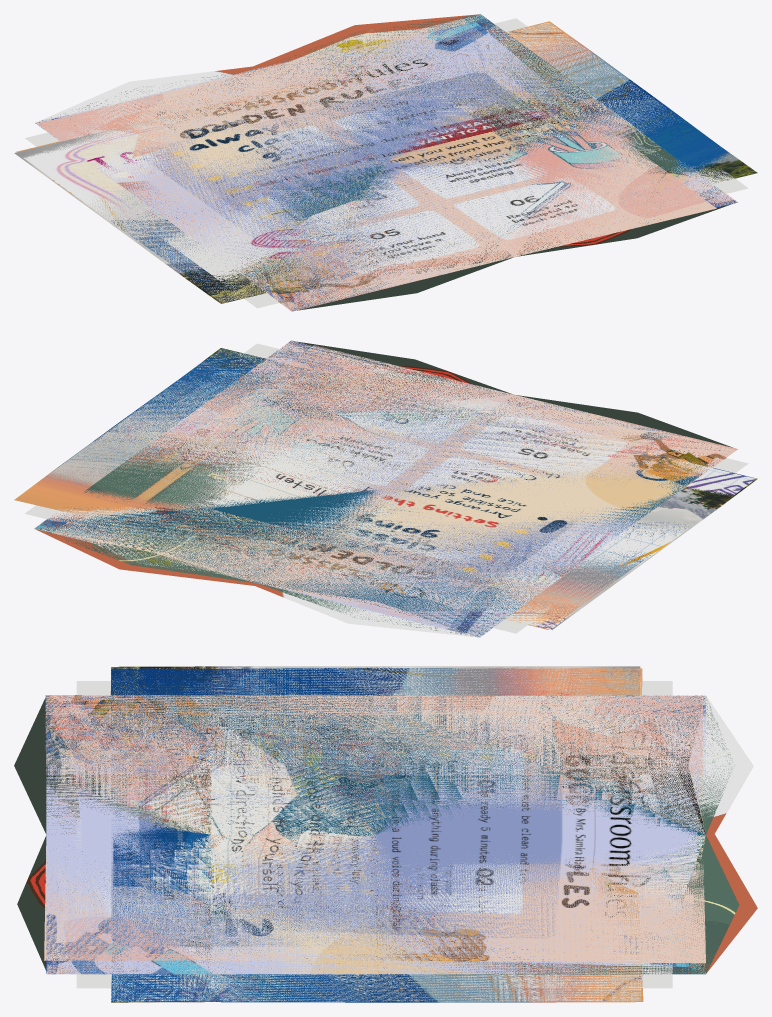
The model's file is Posters.fbx.
3 views of the same model, one above another, from view 1: azimuth 30°, elevation 25°; view 2: azimuth 150°, elevation 25°; view 3: azimuth 270°, elevation 25° (orthographic). The views are drawn at different scales.
Visible parts, largest first — view 1: Plane.001, Plane.002, Plane.006, Plane.003, Plane.011, Plane.012, Plane.005, Plane.010, Plane.014, Plane.015, Plane.013, Plane.004 (+2 smaller); view 2: Plane.001, Plane.002, Plane.003, Plane.005, Plane.004, Plane.012, Plane.010, Plane.011, Plane.006, Plane.013, Plane.014, Plane.008 (+4 smaller); view 3: Plane.002, Plane.001, Plane.004, Plane.003, Plane.011, Plane.006, Plane.005, Plane.012, Plane.010, Plane.013, Plane.014, Plane.007 (+3 smaller).
Boxes of the visible parts, x1=… form: Plane.001: x1=37, y1=18, x2=716, y2=311; Plane.002: x1=36, y1=14, x2=737, y2=310; Plane.006: x1=36, y1=14, x2=629, y2=310; Plane.003: x1=39, y1=14, x2=736, y2=311; Plane.011: x1=16, y1=21, x2=729, y2=299; Plane.012: x1=14, y1=23, x2=757, y2=303; Plane.005: x1=38, y1=15, x2=731, y2=309; Plane.010: x1=36, y1=14, x2=731, y2=310; Plane.014: x1=25, y1=18, x2=748, y2=308; Plane.015: x1=24, y1=32, x2=696, y2=302; Plane.013: x1=49, y1=22, x2=693, y2=298; Plane.004: x1=41, y1=15, x2=736, y2=309; Plane.001: x1=52, y1=345, x2=737, y2=627; Plane.002: x1=35, y1=340, x2=724, y2=637; Plane.003: x1=34, y1=341, x2=724, y2=636; Plane.005: x1=34, y1=341, x2=722, y2=635; Plane.004: x1=39, y1=341, x2=725, y2=635; Plane.012: x1=44, y1=348, x2=757, y2=629; Plane.010: x1=38, y1=341, x2=732, y2=637; Plane.011: x1=14, y1=348, x2=754, y2=629; Plane.006: x1=35, y1=343, x2=715, y2=637; Plane.013: x1=103, y1=349, x2=755, y2=629; Plane.014: x1=25, y1=343, x2=748, y2=633; Plane.008: x1=46, y1=340, x2=725, y2=635; Plane.002: x1=46, y1=695, x2=705, y2=974; Plane.001: x1=44, y1=695, x2=705, y2=963; Plane.004: x1=47, y1=695, x2=705, y2=974; Plane.003: x1=47, y1=695, x2=705, y2=974; Plane.011: x1=110, y1=667, x2=643, y2=1002; Plane.006: x1=48, y1=695, x2=757, y2=974; Plane.005: x1=47, y1=695, x2=705, y2=974; Plane.012: x1=110, y1=666, x2=640, y2=1002; Plane.010: x1=14, y1=695, x2=739, y2=974; Plane.013: x1=112, y1=667, x2=641, y2=1001; Plane.014: x1=76, y1=681, x2=672, y2=988; Plane.007: x1=49, y1=696, x2=705, y2=973.
Size of the model in its own units: 241 by 3.67e-05 by 226.
